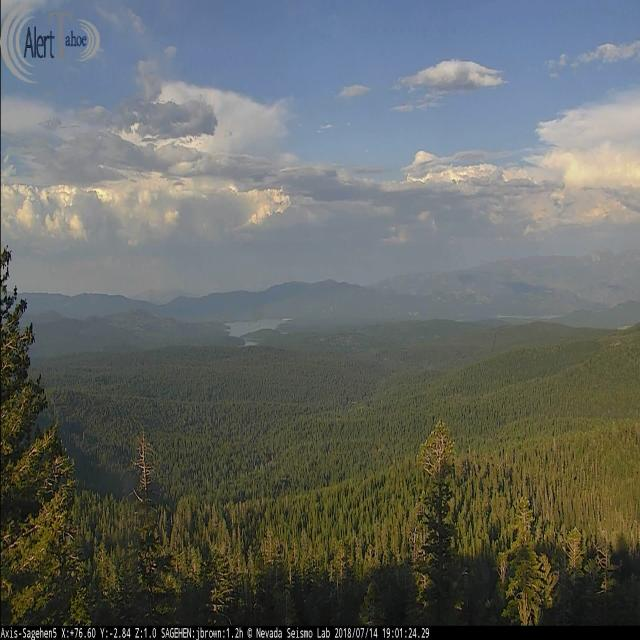smoke: (80, 328, 85, 337)
